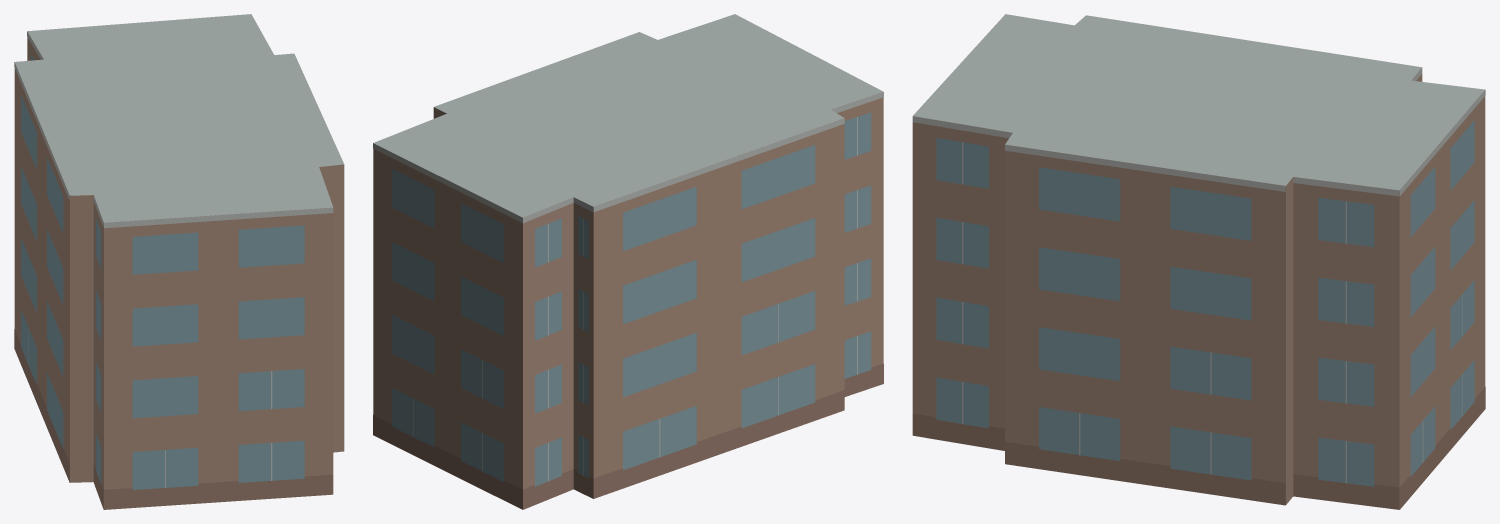
The model's file is survey-upis-32744931.glb.
The picture shows the model from 3 angles, left to right: view 1: azimuth 30°, elevation 25°; view 2: azimuth 150°, elevation 25°; view 3: azimuth 270°, elevation 25°; orthographic projection. The views are drawn at different scales.
Visible parts, largest first — view 1: survey-upis-32744931.tmp; view 2: survey-upis-32744931.tmp; view 3: survey-upis-32744931.tmp.
Part boxes in pixels (<box>): survey-upis-32744931.tmp: <box>14,14,344,509</box>; survey-upis-32744931.tmp: <box>373,14,883,509</box>; survey-upis-32744931.tmp: <box>912,14,1485,509</box>.
Bounding box in the file's own units: 15.16 × 12.8 × 20.81.
